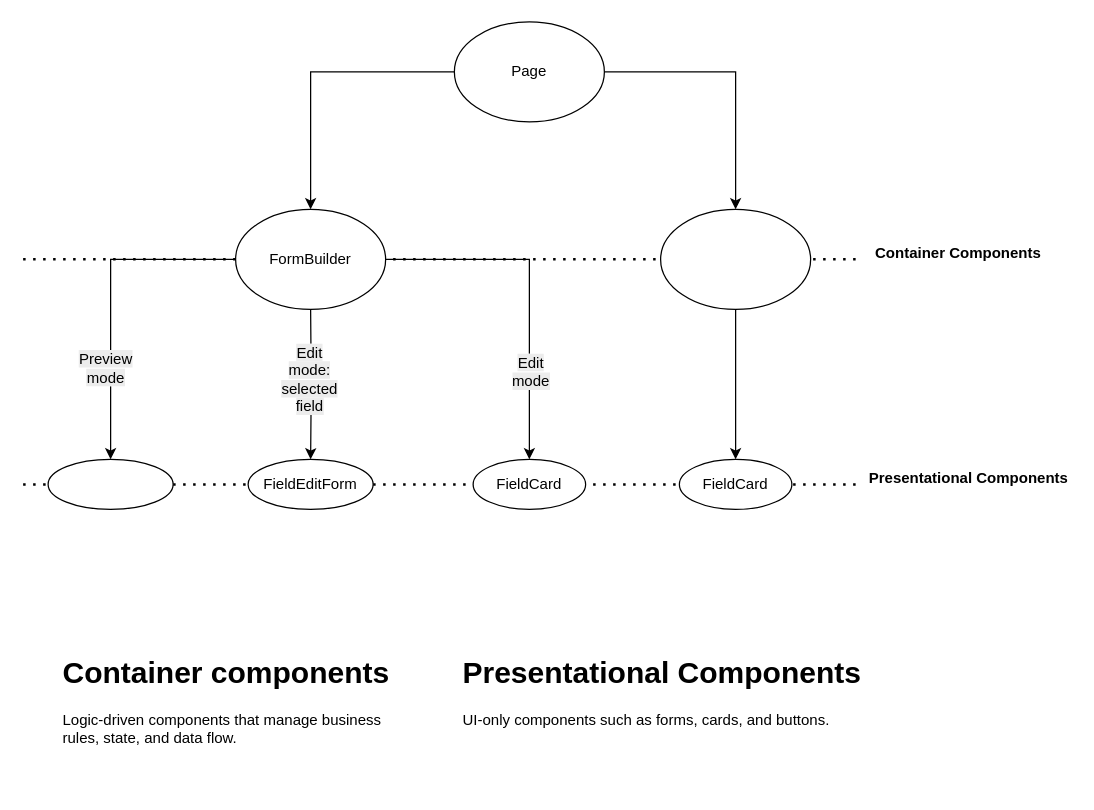
The diagram is 1094 pixels wide and 810 high, and some of its shapes have lost their labels. The centre of each missing label's shape, as x and y in pixels:
"FieldPalette" goes at (735,258).
"FormPreview" goes at (110,483).
